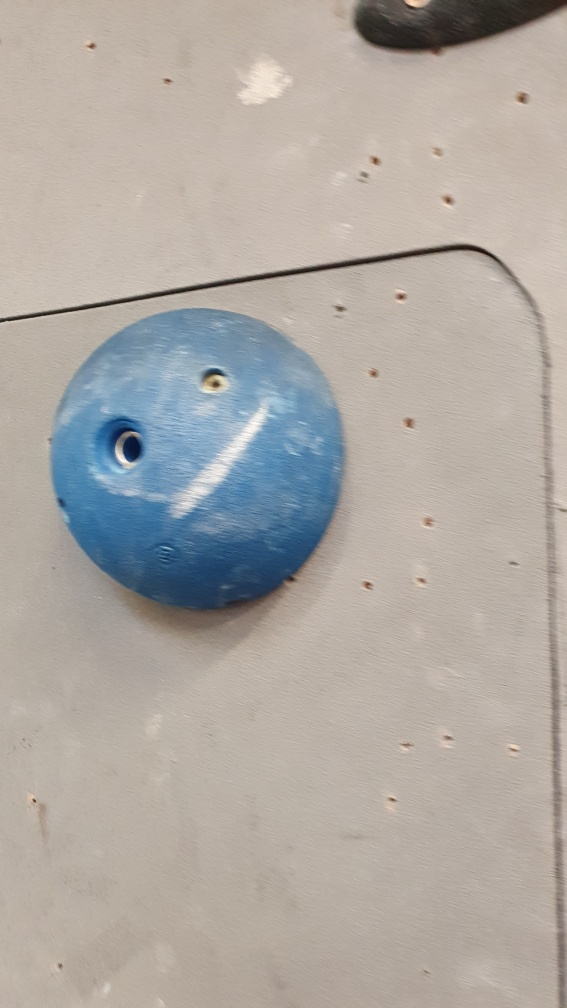Sloper: (47, 306, 349, 616)
